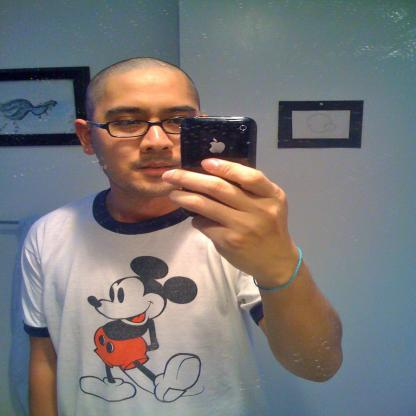Camera: (184, 120, 265, 219)
